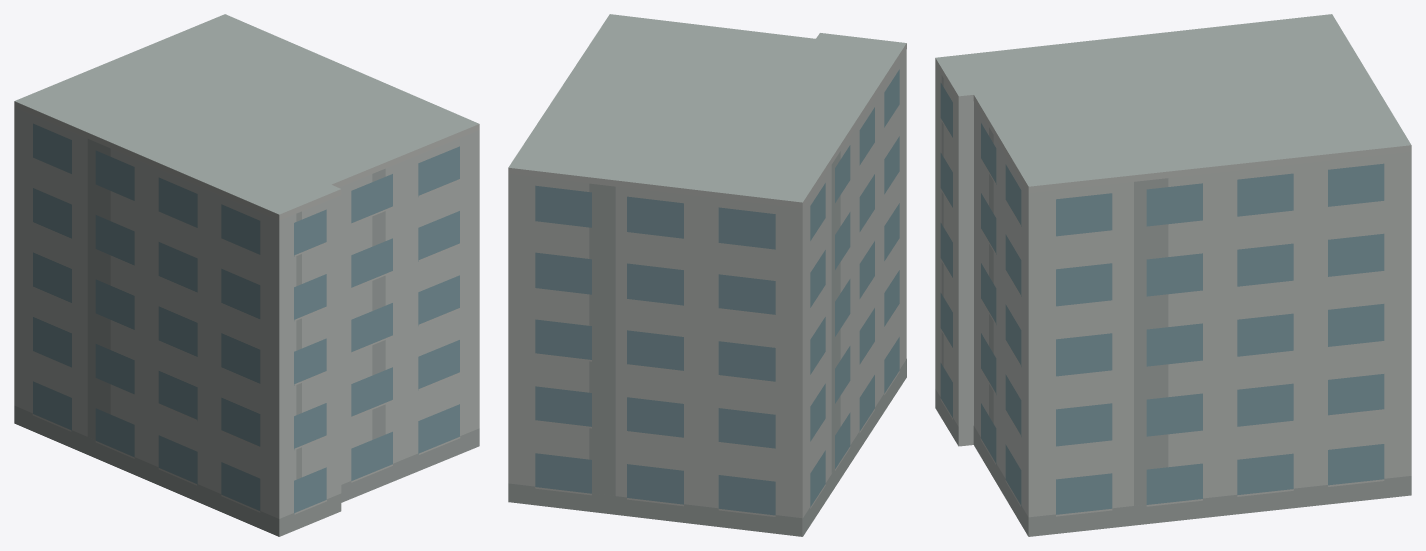
The model's file is survey-upis-32921027.glb.
3 renders of one model, left to right at view 1: azimuth 30°, elevation 25°; view 2: azimuth 150°, elevation 25°; view 3: azimuth 270°, elevation 25°, orthographic. The views are drawn at different scales.
Visible parts, largest first — view 1: survey-upis-32921027.tmp; view 2: survey-upis-32921027.tmp; view 3: survey-upis-32921027.tmp.
Part boxes in pixels (<box>): survey-upis-32921027.tmp: <box>14,14,479,536</box>; survey-upis-32921027.tmp: <box>508,14,906,536</box>; survey-upis-32921027.tmp: <box>935,14,1411,536</box>.
Bounding box in the file's own units: 13.76 × 13 × 16.03.
